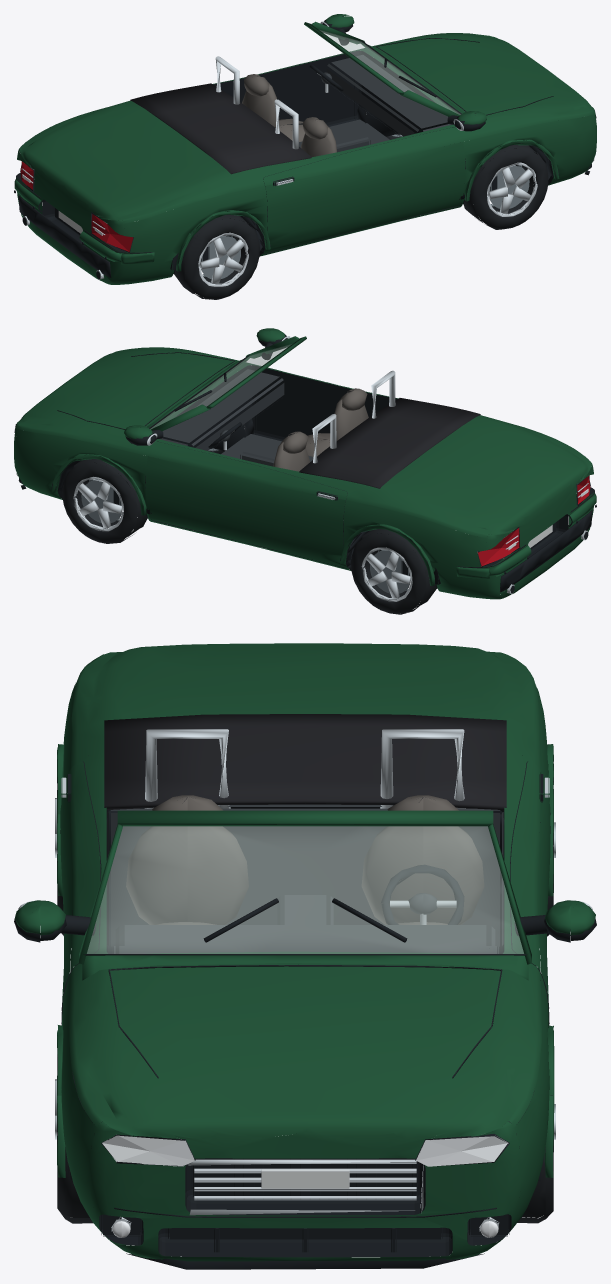
File: roadster.glb
The picture shows the model from 3 angles, top to bottom: view 1: azimuth 30°, elevation 25°; view 2: azimuth 150°, elevation 25°; view 3: azimuth 270°, elevation 25°; orthographic projection. The views are drawn at different scales.
Visible parts, largest first — view 1: Body_PBR, Wheel_PBR (×2), Body_glass; view 2: Body_PBR, Wheel_PBR (×2), Body_glass; view 3: Body_PBR, Body_glass, Wheel_PBR (×2).
Boxes of the visible parts, x1,y1,x2,y2 form: Body_PBR: [14, 14, 596, 284]; Wheel_PBR (×2): [174, 143, 548, 299]; Body_glass: [320, 30, 460, 114]; Body_PBR: [14, 328, 596, 599]; Wheel_PBR (×2): [62, 459, 436, 614]; Body_glass: [150, 344, 291, 429]; Body_PBR: [14, 643, 596, 1269]; Body_glass: [87, 826, 523, 953]; Wheel_PBR (×2): [55, 1054, 555, 1223].
Bounding box in the file's own units: 1 × 0.2973 × 0.5107.
2 materials, 1 textured.
